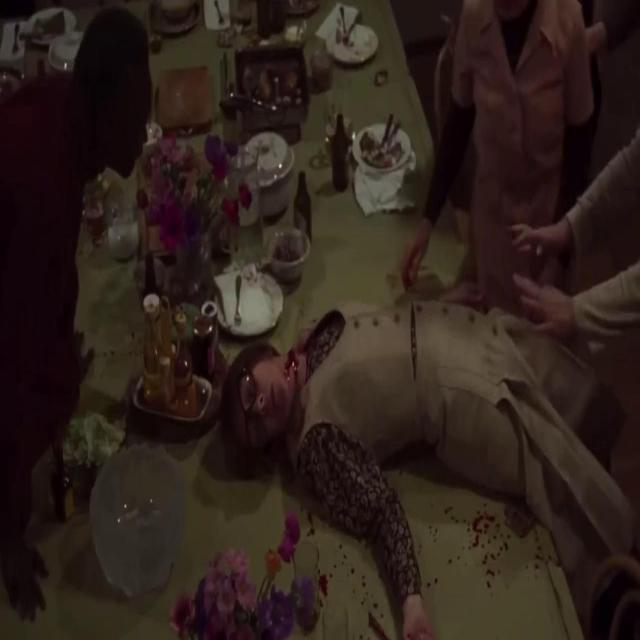flood: (447, 492, 540, 594), (390, 286, 438, 384), (274, 330, 312, 412)
